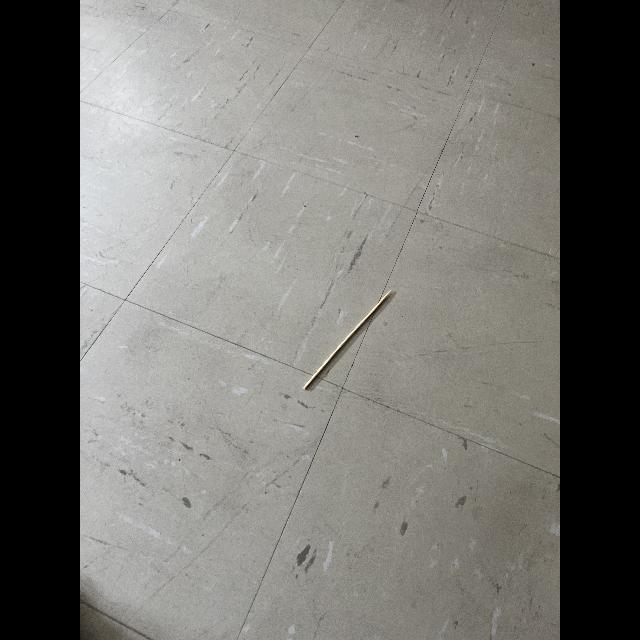stick: (292, 282, 403, 396)
